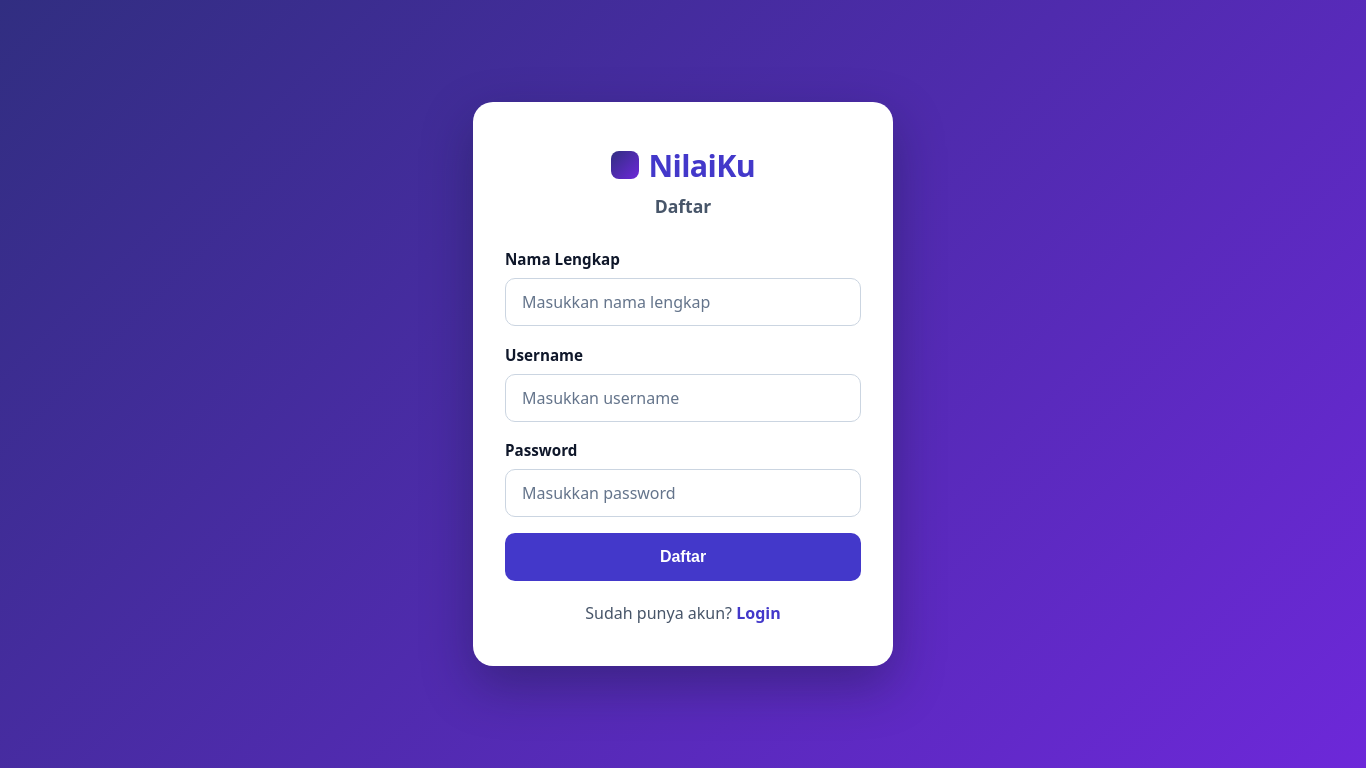
Test: Register › menampilkan pesan default jika server tidak merespons
Type "Budi Santoso" into the field labelled "Nama Lengkap" at (683, 302), box [505,278,861,326]
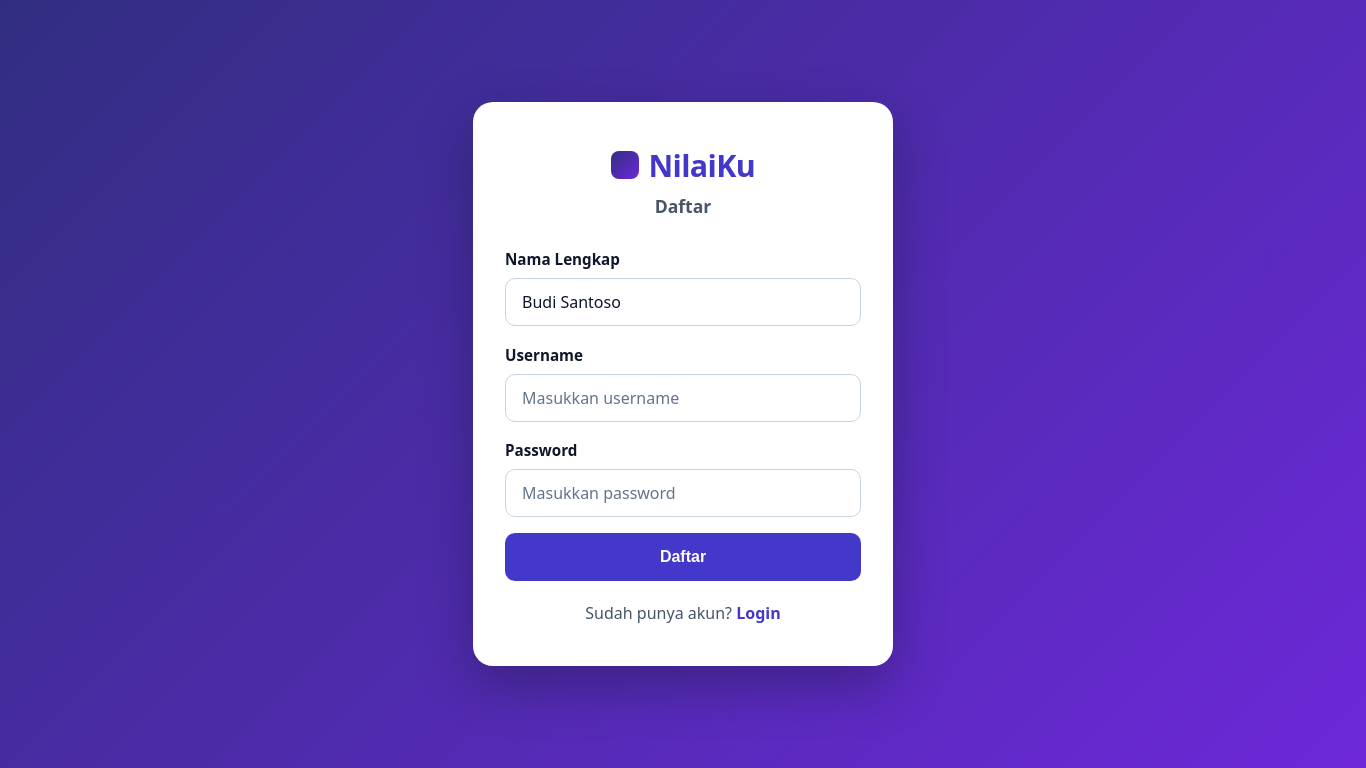
Type "budi" into the field labelled "Username" at (683, 398), box [505,374,861,422]
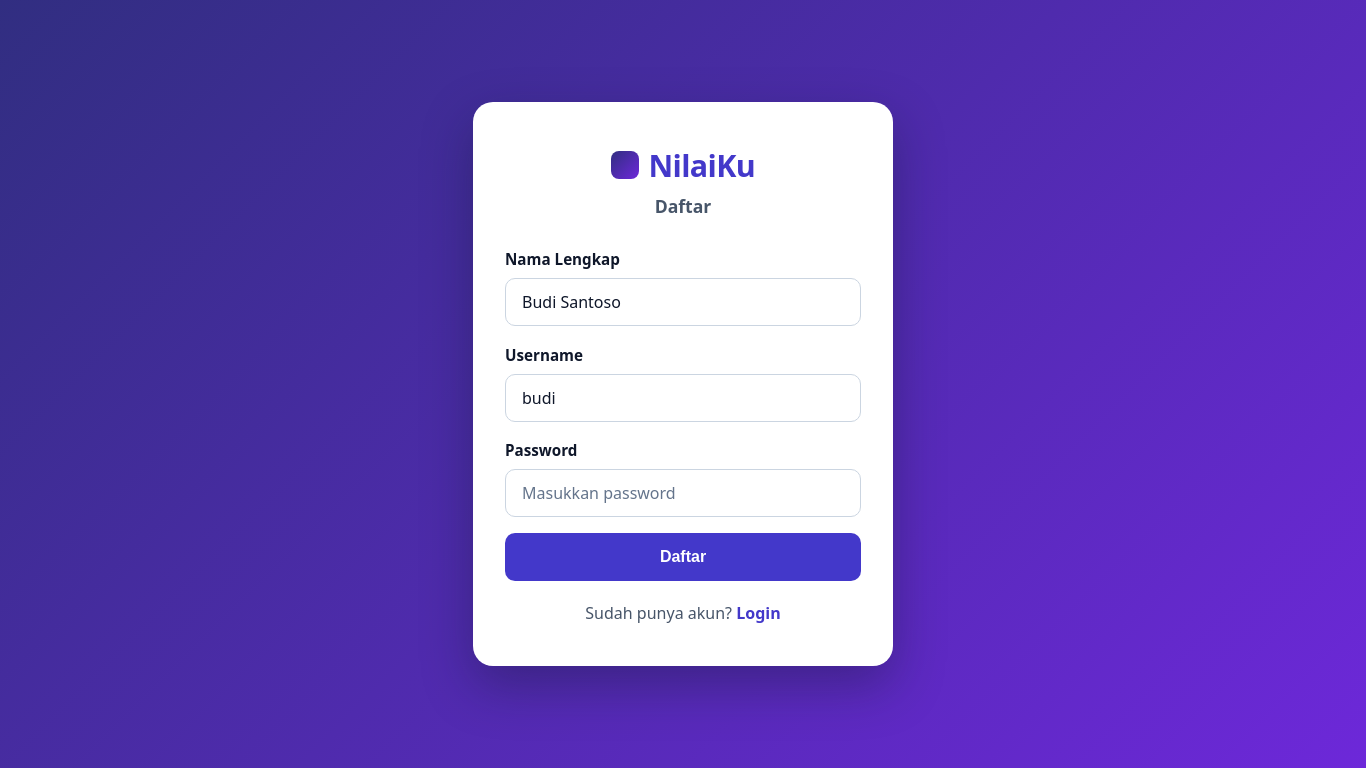
Type "rahasia" into the password field labelled "Password" at (683, 493), box [505,469,861,517]
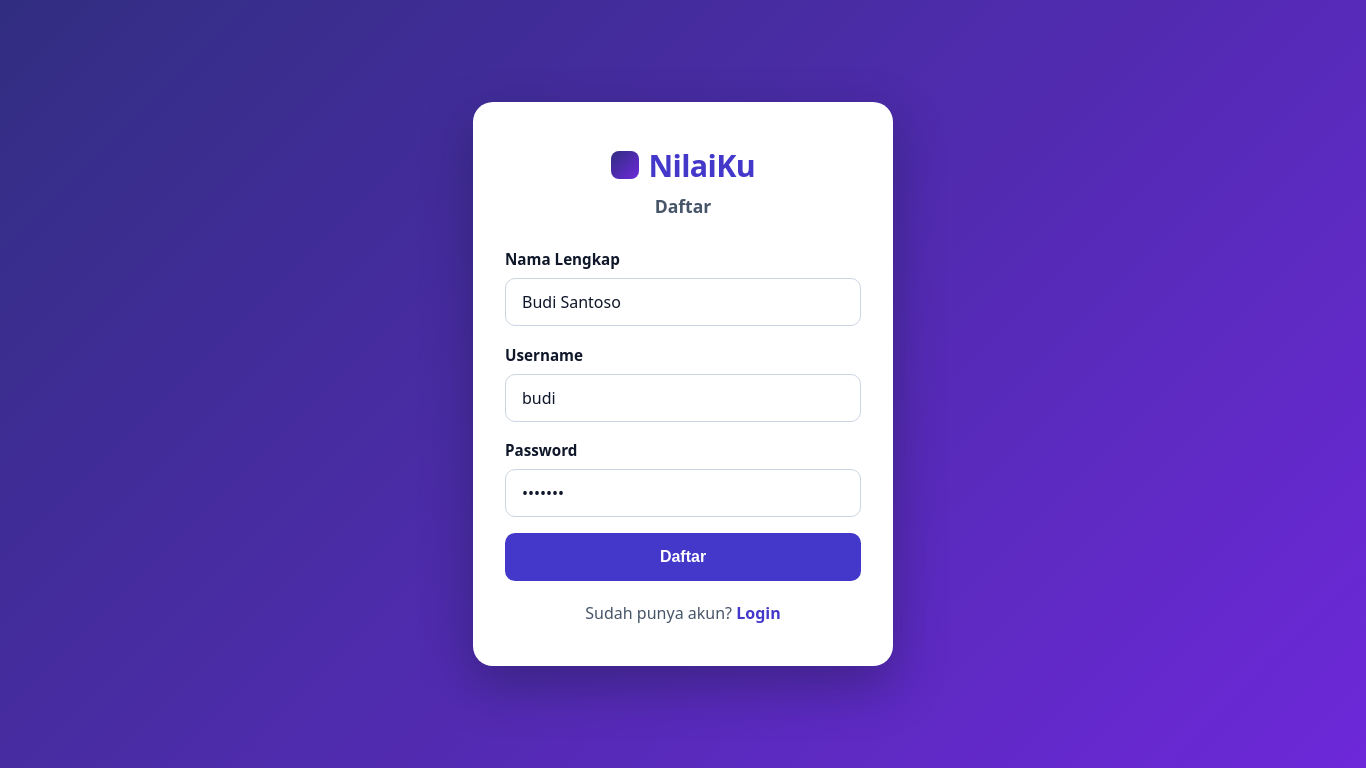
Submit the form "Daftar", box [505,248,861,581]
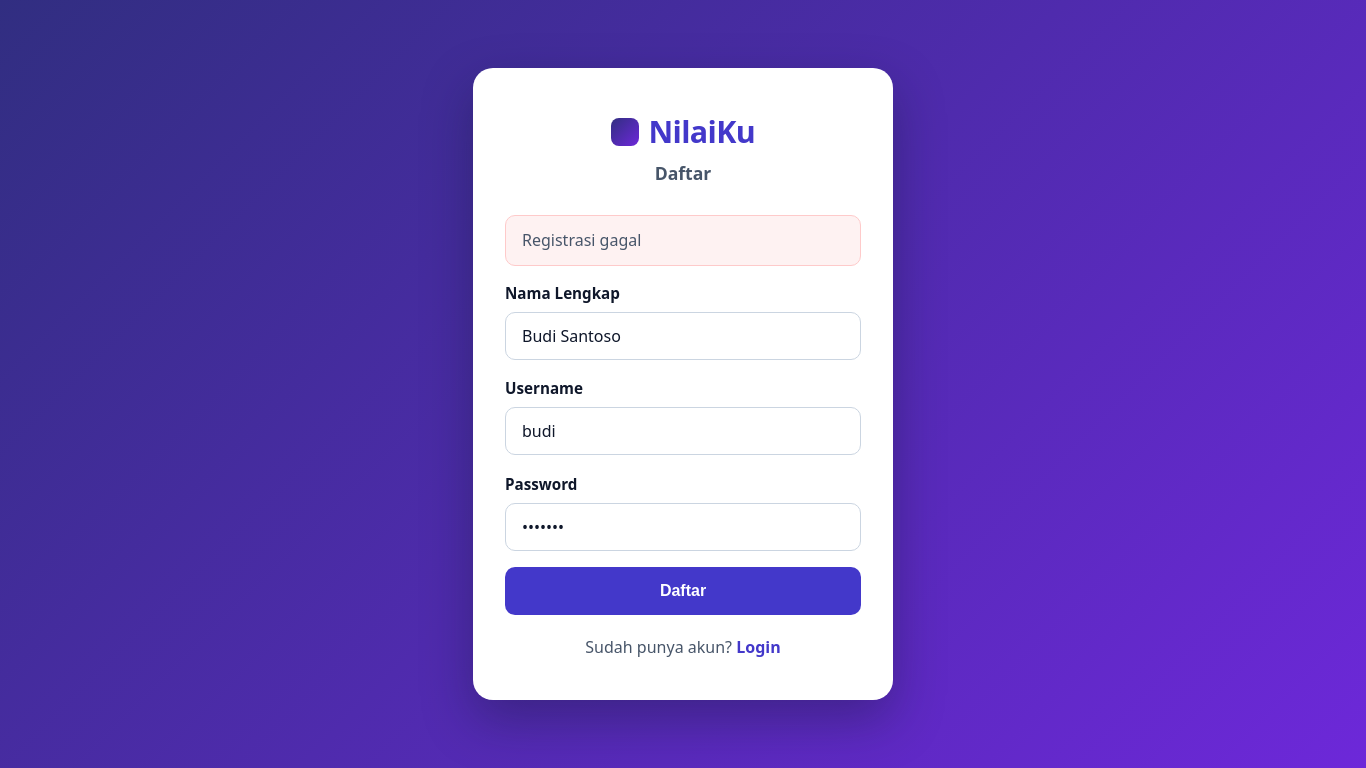
Result: the text "Registrasi gagal" is shown at [505,215,861,266]
